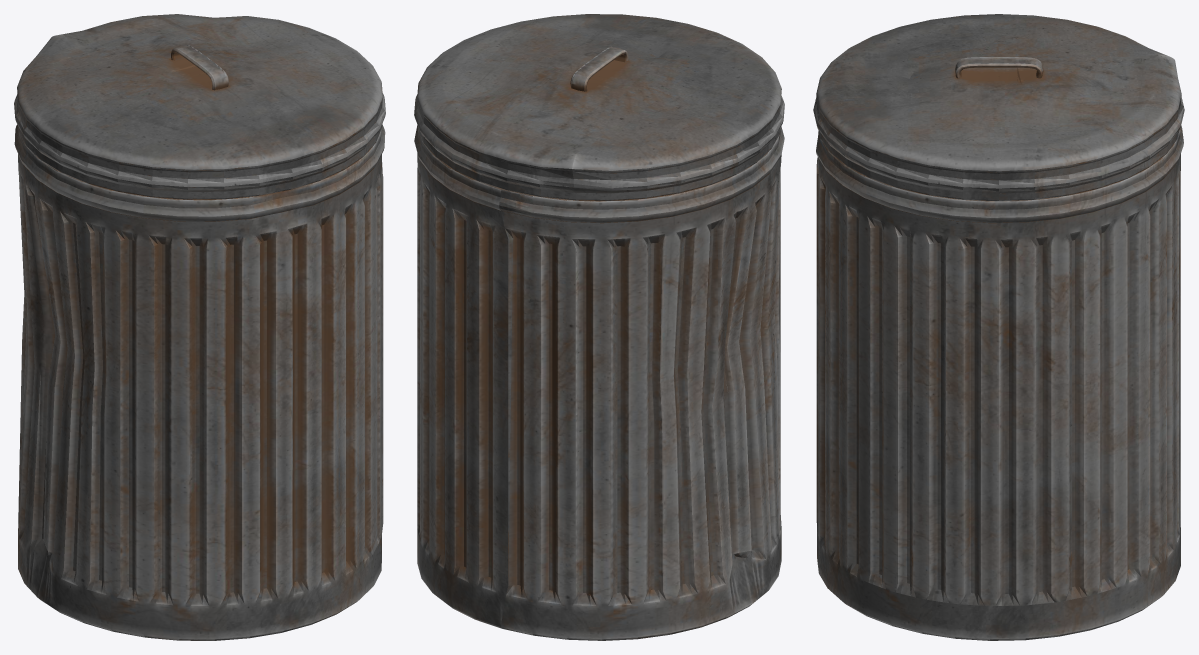
The model's file is trash-bin.dae.
The picture shows the model from 3 angles, left to right: view 1: azimuth 30°, elevation 25°; view 2: azimuth 150°, elevation 25°; view 3: azimuth 270°, elevation 25°; orthographic projection.
Visible parts, largest first — view 1: contener, cover, handle; view 2: contener, cover, handle; view 3: contener, cover, handle.
Part boxes in pixels (left/top/right/bottom): contener: left=14, top=124, right=385, bottom=640; cover: left=14, top=14, right=385, bottom=199; handle: left=171, top=45, right=228, bottom=90; contener: left=414, top=125, right=784, bottom=640; cover: left=414, top=14, right=784, bottom=200; handle: left=570, top=46, right=628, bottom=91; contener: left=816, top=125, right=1183, bottom=640; cover: left=813, top=14, right=1184, bottom=201; handle: left=955, top=57, right=1043, bottom=78.
Bounding box in the file's own units: 61.02 × 91.69 × 61.02.
Materials: 1 (1 with a texture image).
